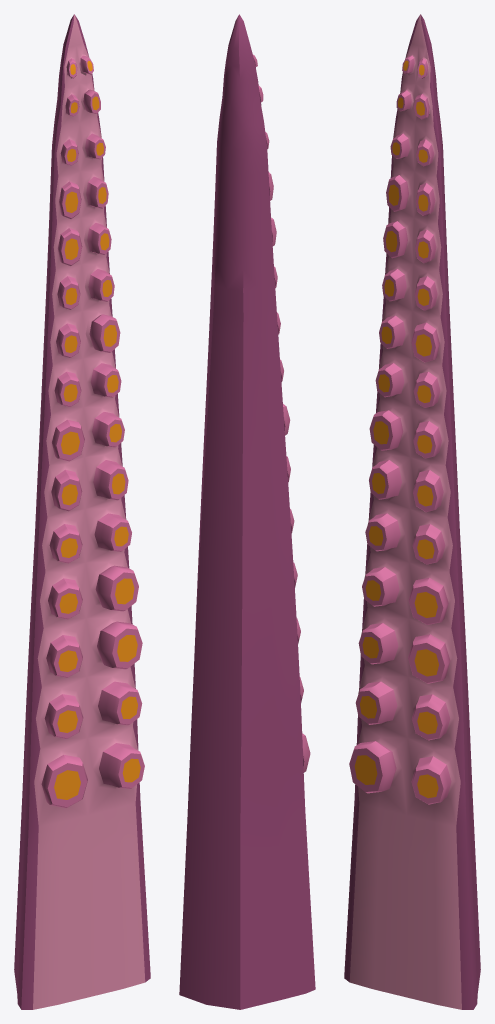
Rendered from quaternius-pirate-kit-enemy-tentacle.gltf.
The picture shows the model from 3 angles, left to right: view 1: azimuth 30°, elevation 25°; view 2: azimuth 150°, elevation 25°; view 3: azimuth 330°, elevation 25°; orthographic projection.
Parts seen in each view (by area): view 1: Enemy_Tentacle; view 2: Enemy_Tentacle; view 3: Enemy_Tentacle.
Boxes of the visible parts, left/top/right/bottom form: Enemy_Tentacle: left=14, top=14, right=150, bottom=1009; Enemy_Tentacle: left=179, top=14, right=315, bottom=1009; Enemy_Tentacle: left=344, top=14, right=480, bottom=1009.
Bounding box in the file's own units: 0.8466 × 6.07 × 0.6721.
1 material, 1 textured.
